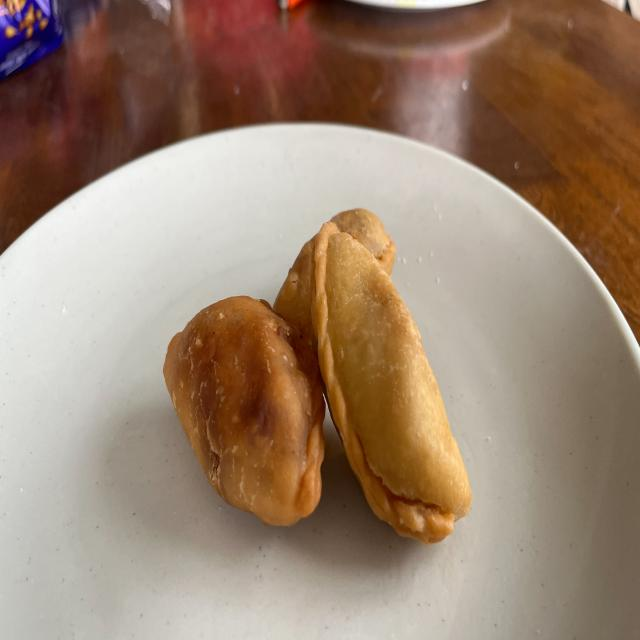karipap: (310, 221, 476, 546), (162, 296, 326, 526), (271, 207, 397, 338)
